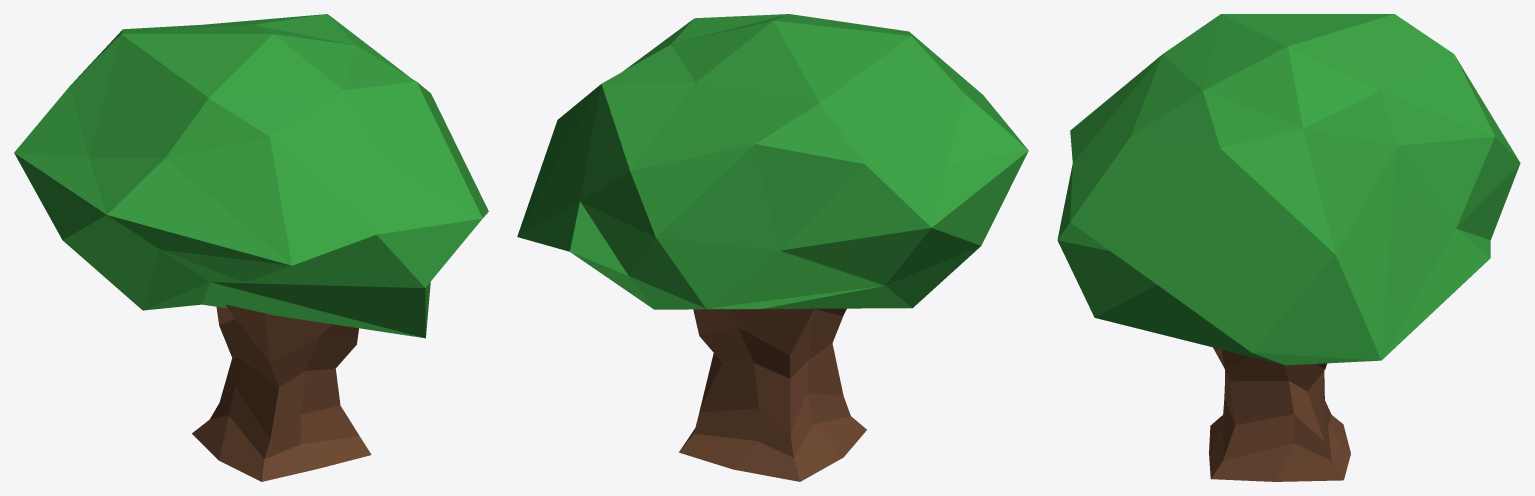
The model's file is Tree_30_Green.fbx.
3 views of the same model, side by side, from view 1: azimuth 30°, elevation 25°; view 2: azimuth 150°, elevation 25°; view 3: azimuth 270°, elevation 25° (orthographic). The views are drawn at different scales.
Visible parts, largest first — view 1: Tree_30_Green_Part_1, Tree_30_Green_Part_2; view 2: Tree_30_Green_Part_1, Tree_30_Green_Part_2; view 3: Tree_30_Green_Part_1, Tree_30_Green_Part_2.
Boxes of the visible parts, x1,y1,x2,y2 form: Tree_30_Green_Part_1: (14, 14, 488, 338); Tree_30_Green_Part_2: (192, 304, 371, 481); Tree_30_Green_Part_1: (517, 14, 1028, 309); Tree_30_Green_Part_2: (679, 308, 866, 481); Tree_30_Green_Part_1: (1057, 14, 1520, 365); Tree_30_Green_Part_2: (1209, 347, 1350, 481).
Size of the model in its own units: 912 by 881 by 915.
